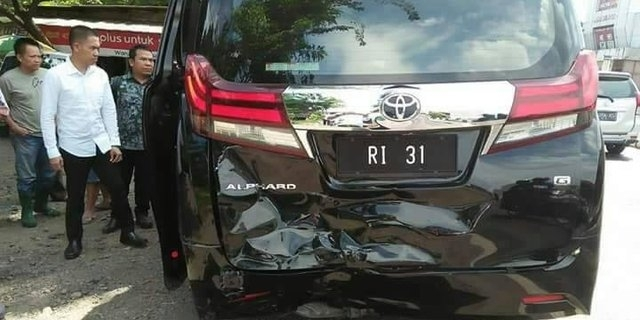plate: (338, 135, 457, 175)
